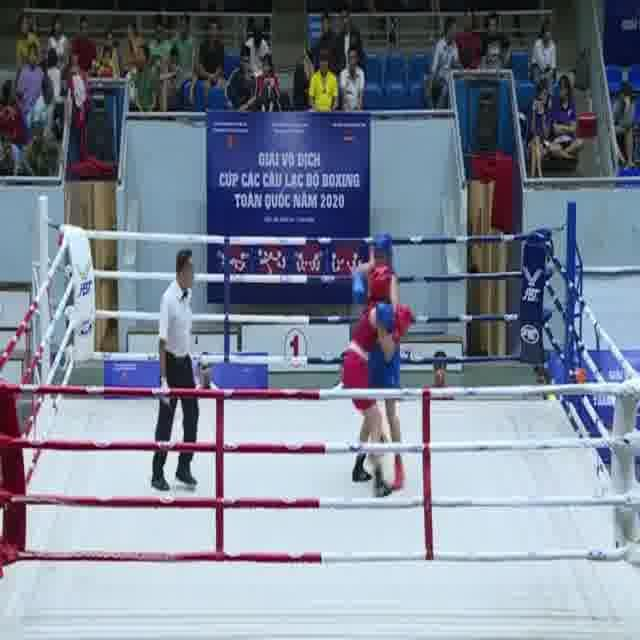blue-player: (351, 232, 406, 495)
red-player: (341, 262, 415, 501)
referee: (148, 246, 203, 494)
